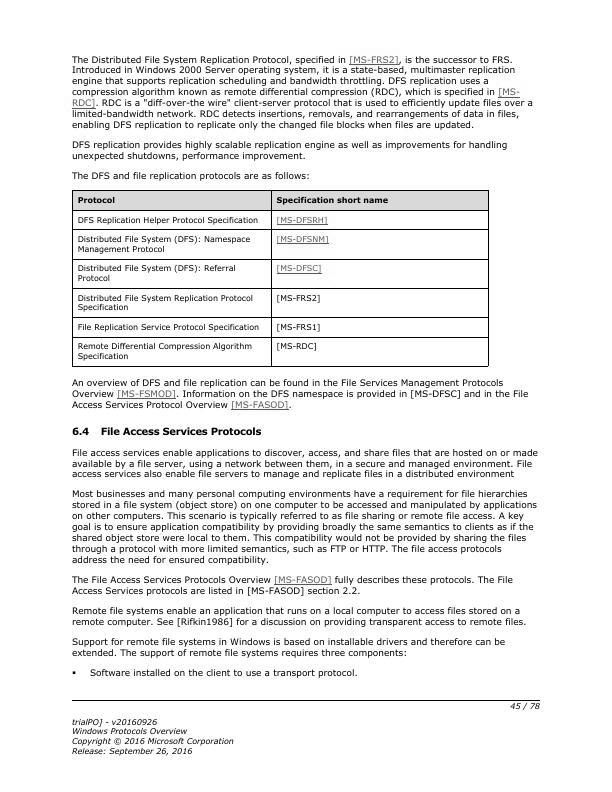table: (71, 188, 490, 371)
text: (70, 52, 534, 132), (68, 488, 542, 566), (68, 378, 530, 413), (70, 446, 538, 480), (68, 572, 514, 597), (68, 139, 509, 164), (68, 604, 527, 627), (68, 636, 508, 658), (68, 715, 235, 758), (68, 169, 311, 184), (86, 666, 361, 679), (67, 426, 264, 438)
